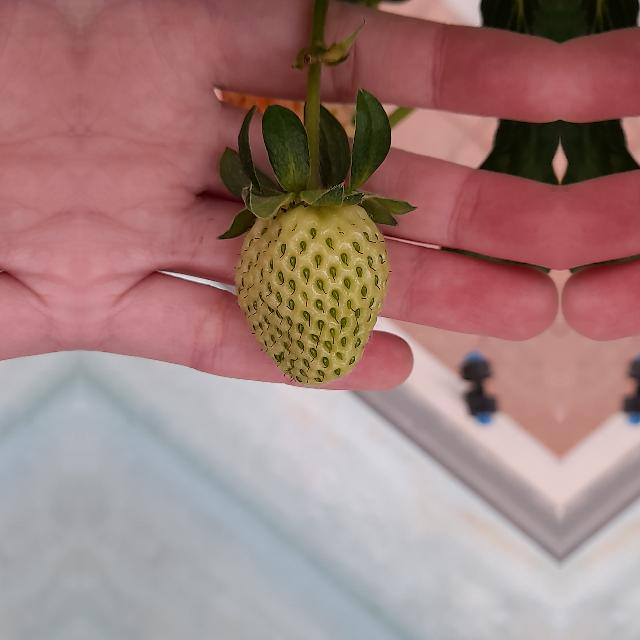Health_25: (235, 204, 389, 384)
